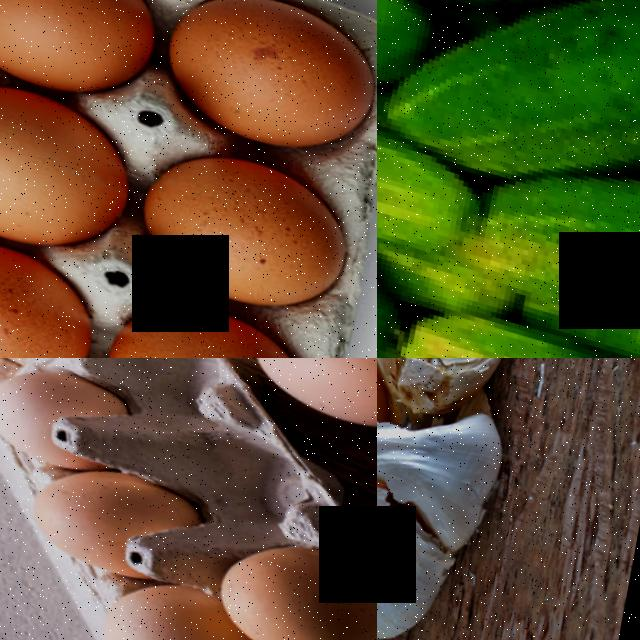cucumber: (453, 127, 640, 335), (432, 0, 640, 175), (384, 279, 640, 358), (377, 87, 483, 260)
egg_: (125, 117, 355, 319), (151, 0, 377, 157), (0, 54, 144, 266), (212, 513, 377, 640), (99, 273, 320, 358), (0, 0, 170, 108), (0, 213, 110, 358), (25, 453, 134, 568), (241, 358, 377, 436), (93, 560, 218, 640), (0, 358, 65, 459)
garlic: (377, 358, 520, 416)
